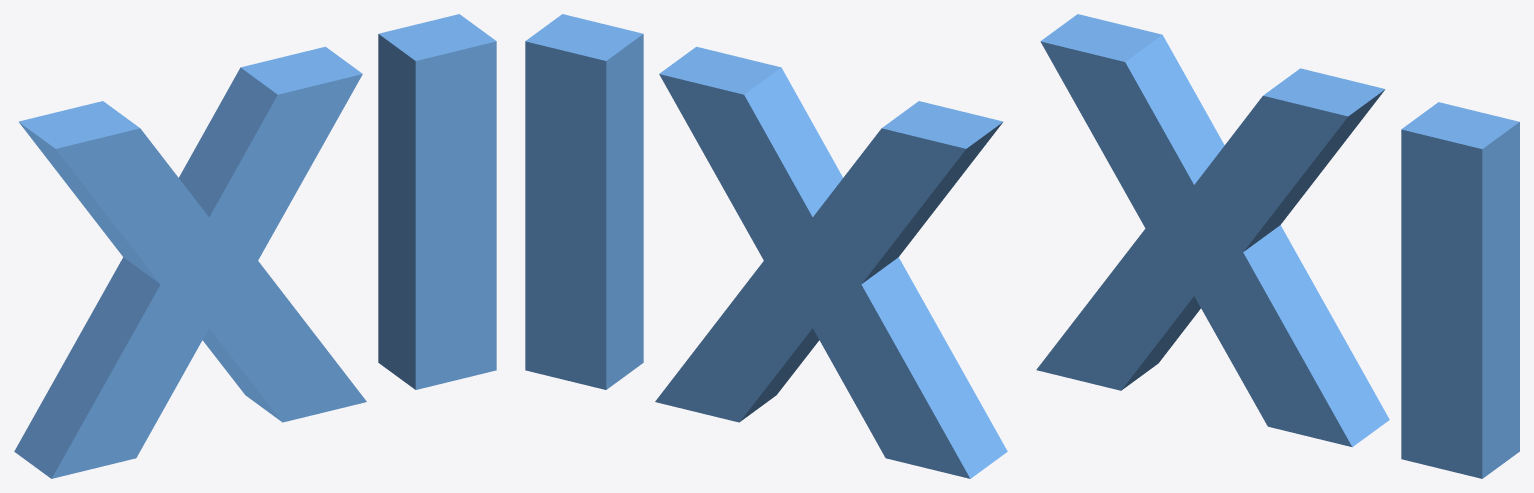
Rendered from suku_besar_xi.glb.
3 views of the same model, side by side, from view 1: azimuth 30°, elevation 25°; view 2: azimuth 150°, elevation 25°; view 3: azimuth 330°, elevation 25° (orthographic).
Visible parts, largest first — view 1: geometry_0; view 2: geometry_0; view 3: geometry_0.
Boxes of the visible parts, x1,y1,x2,y2 form: geometry_0: (14, 14, 496, 478); geometry_0: (525, 14, 1007, 478); geometry_0: (1036, 14, 1519, 478).
Size of the model in its own units: 10.33 by 7.29 by 1.5.
